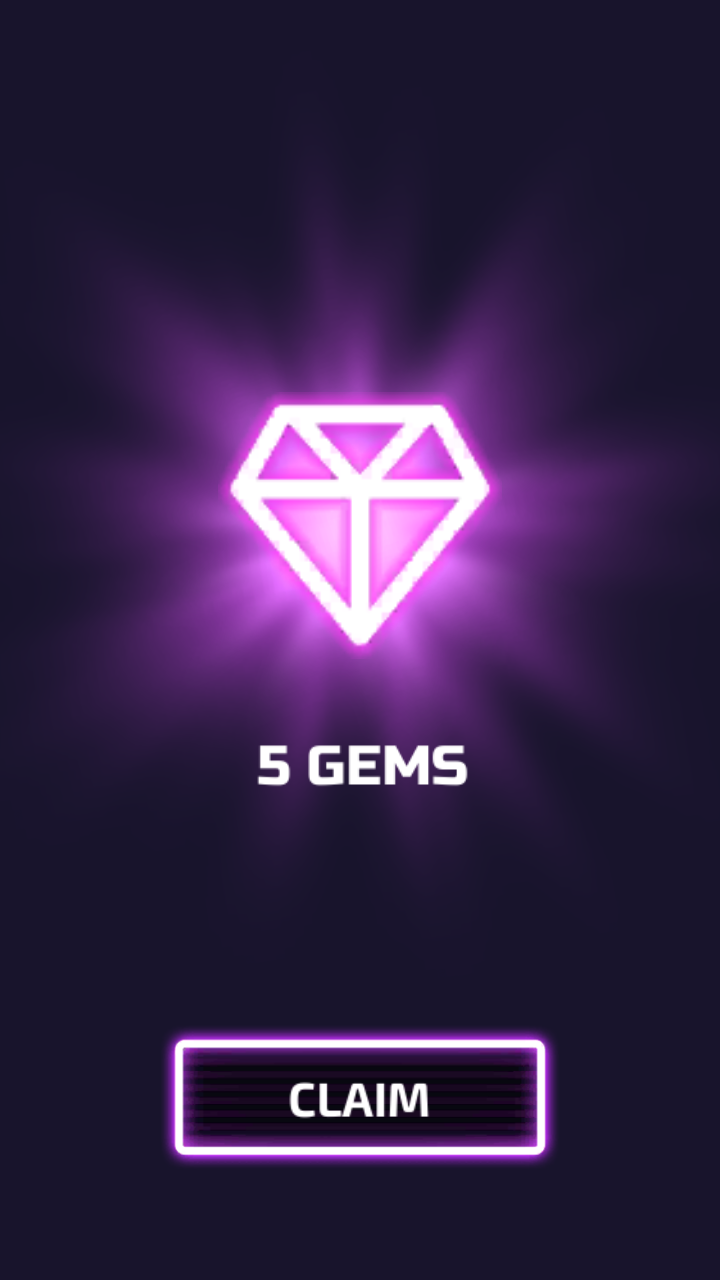GA_Claim_Gems: (167, 1025, 552, 1170)
